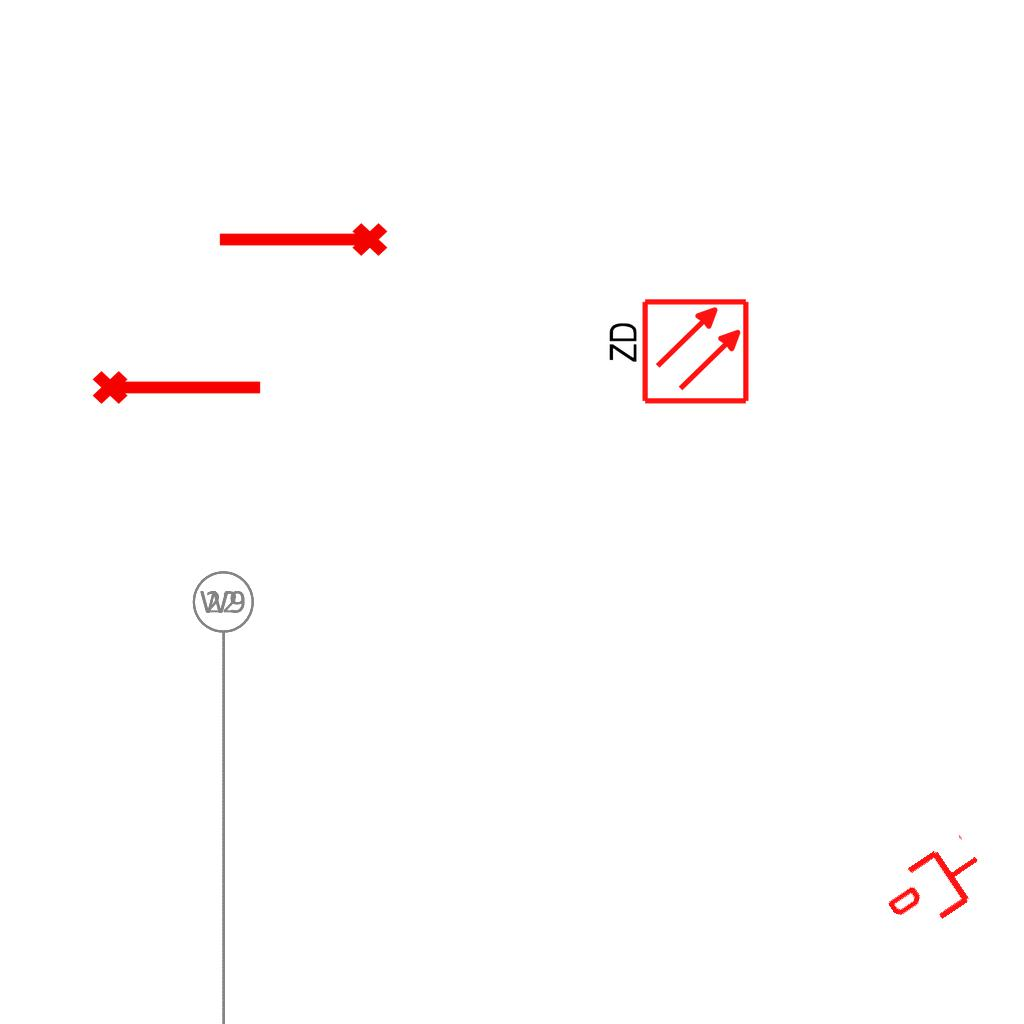ASR_Ansaugoeffnung: (214, 219, 390, 265), (90, 362, 266, 408)
Datenanschluss_einfach: (875, 829, 998, 943)
ZD_Melder_in_Zwischendecke_mit_Revisionsoeffnung_mind_40_x_40_cm: (602, 296, 751, 410)
